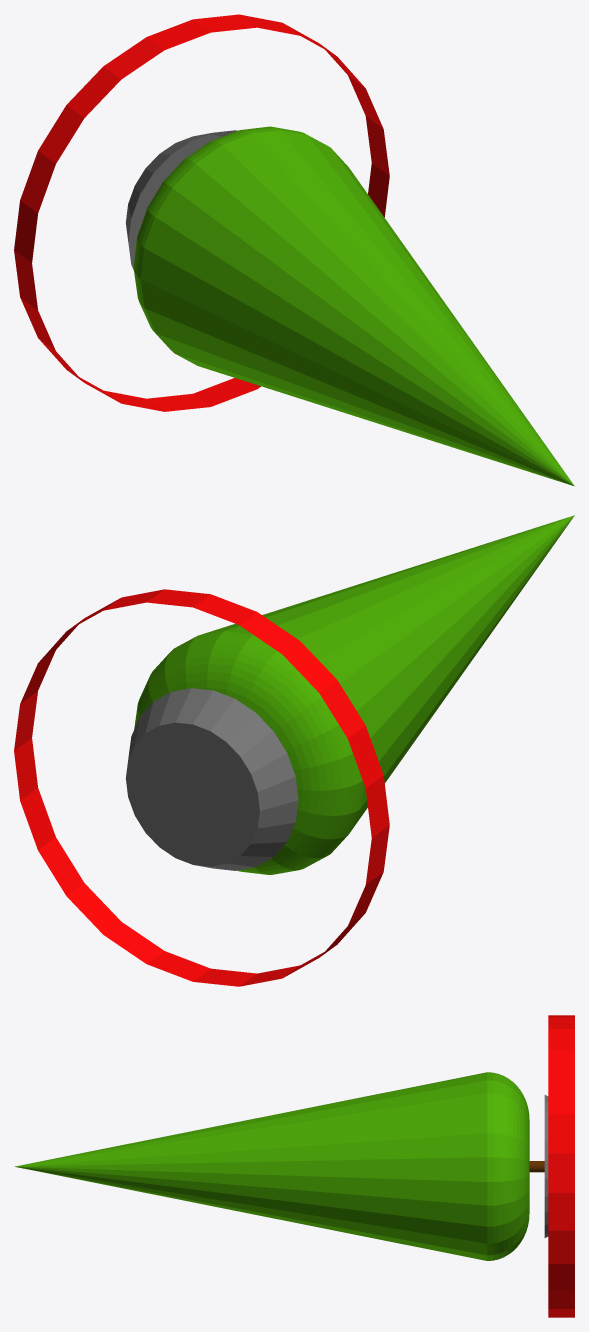
File: HPK14m.obj
3 views of the same model, one above another, from view 1: azimuth 30°, elevation 25°; view 2: azimuth 150°, elevation 25°; view 3: azimuth 270°, elevation 25° (orthographic). The views are drawn at different scales.
Size of the model in its own units: 8 by 8 by 14.8.
